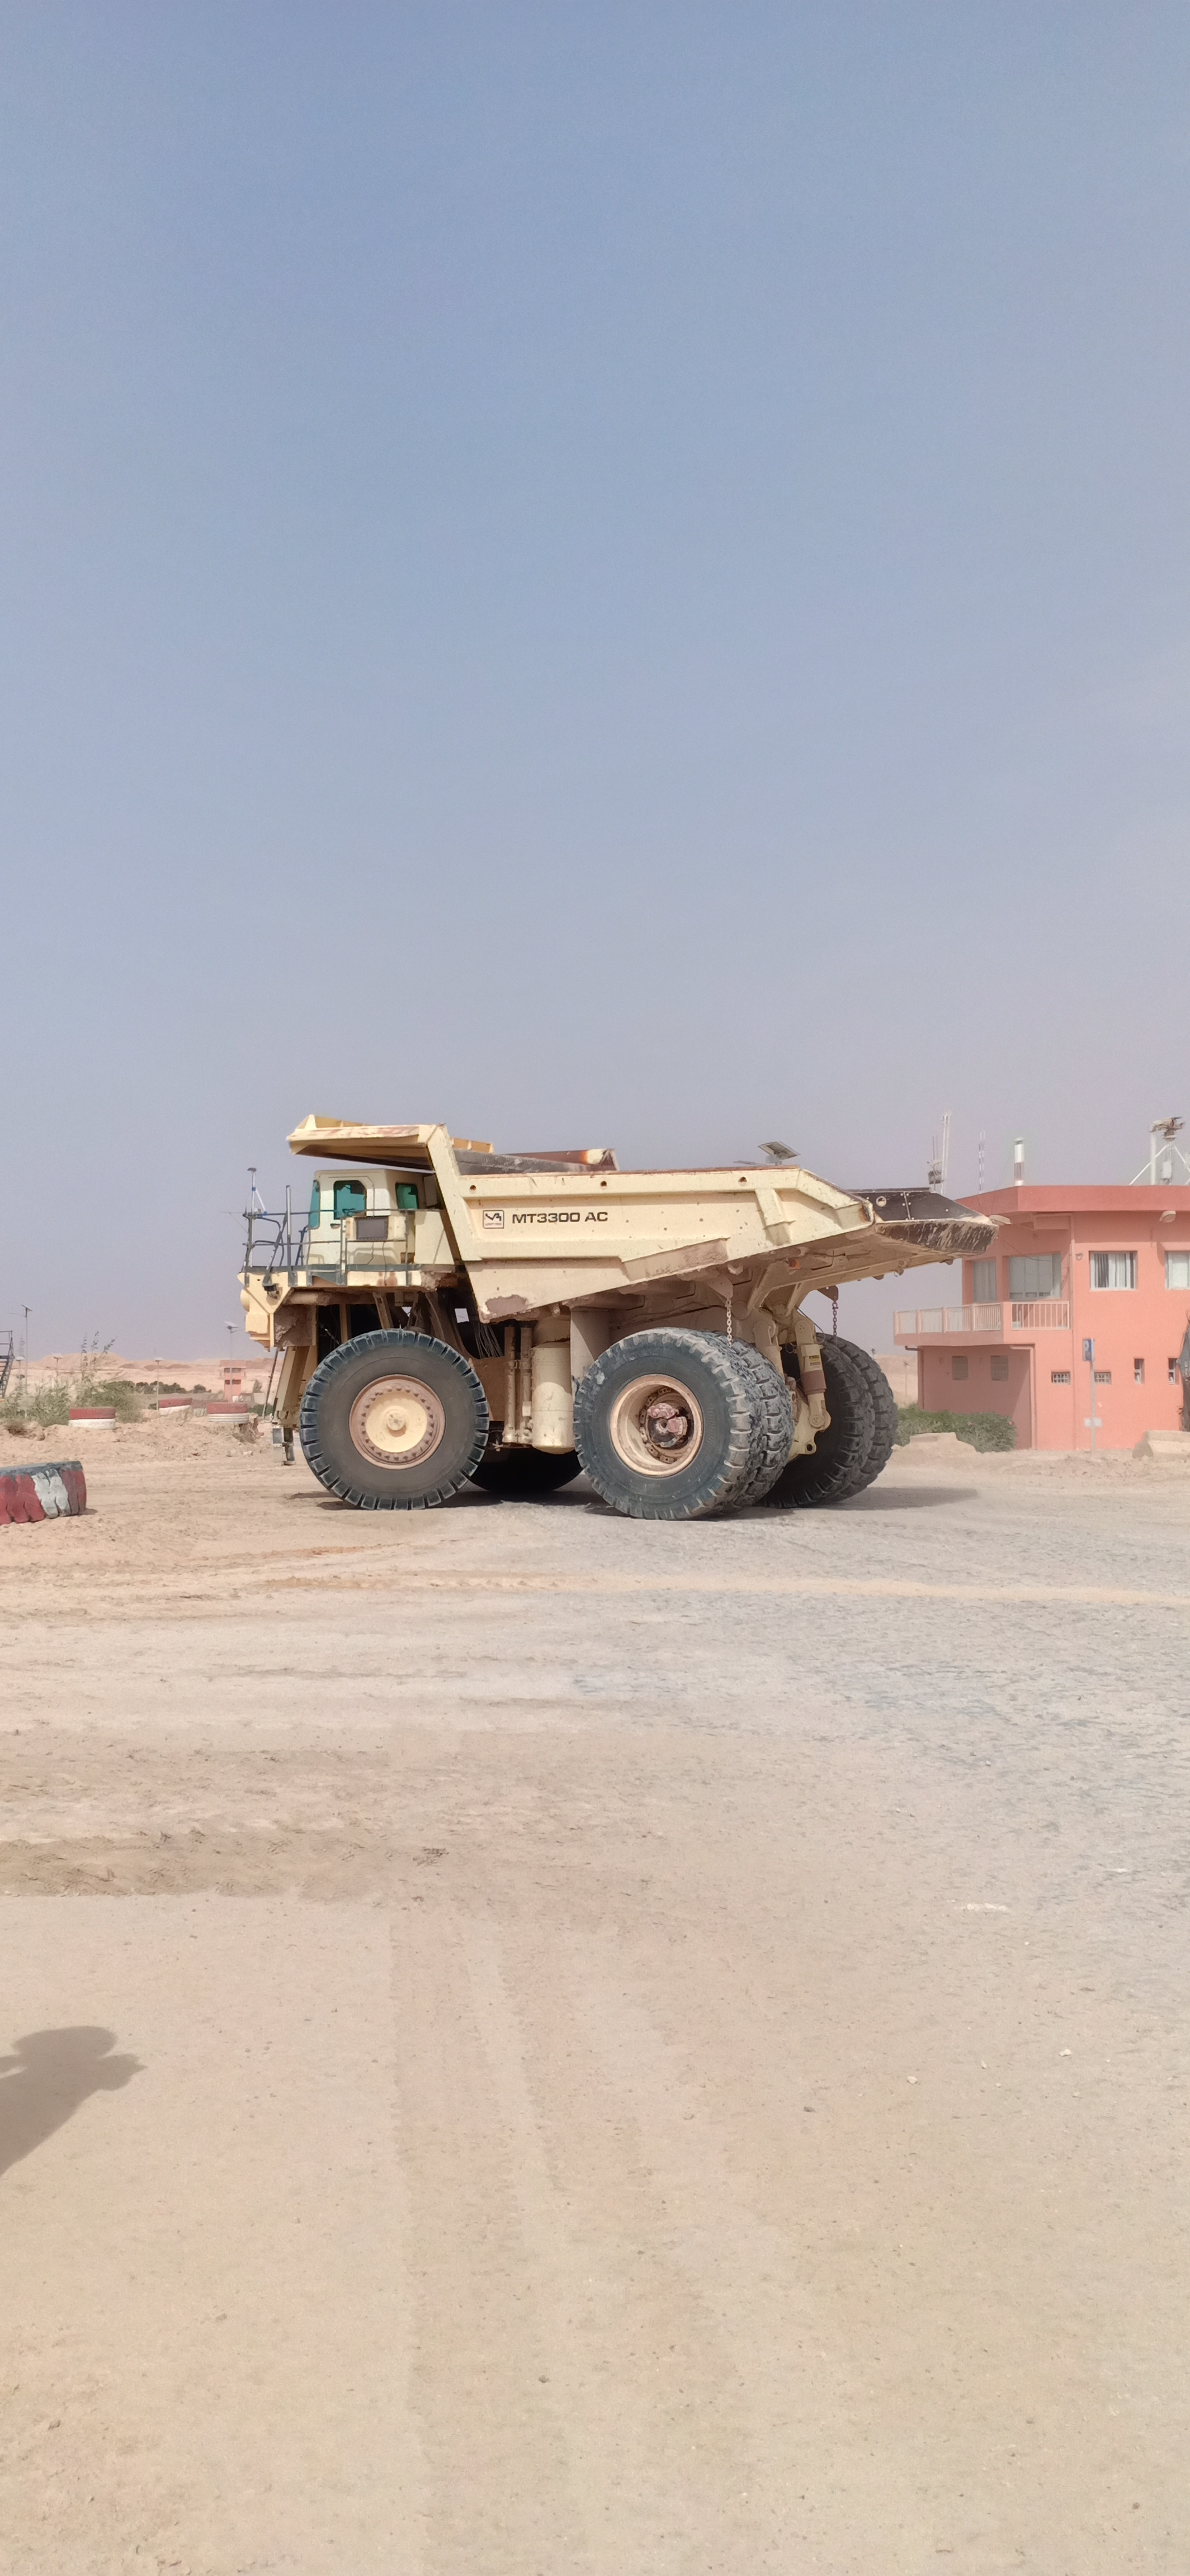camion: (212, 1079, 1042, 1566)
